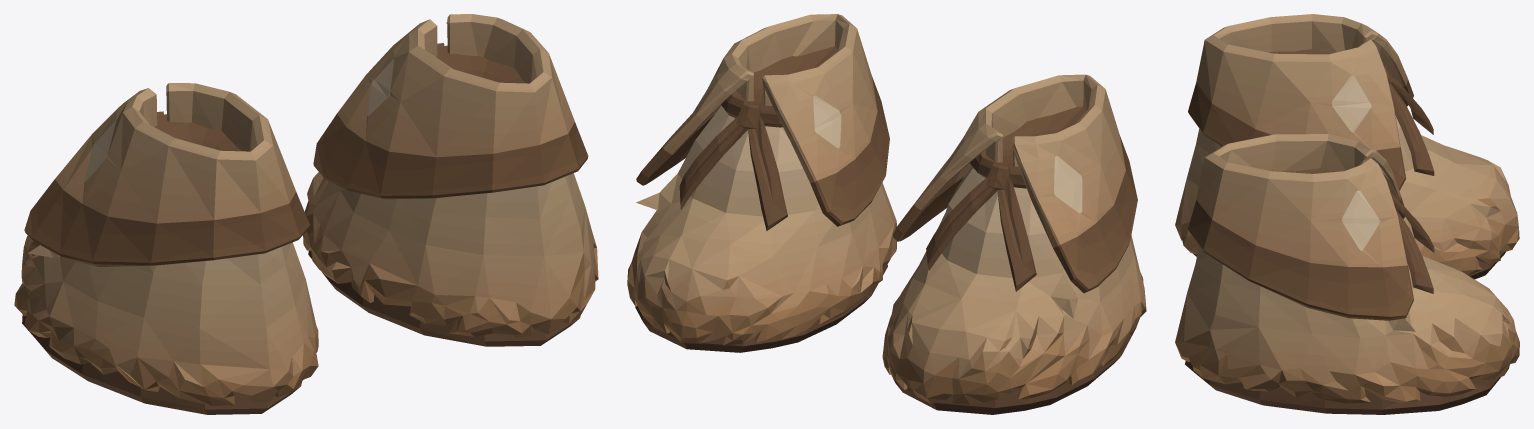
Rendered from CharSkyKid_Feet_FluffyMoth.glb.
3 views of the same model, side by side, from view 1: azimuth 30°, elevation 25°; view 2: azimuth 150°, elevation 25°; view 3: azimuth 270°, elevation 25° (orthographic). The views are drawn at different scales.
Visible parts, largest first — view 1: CharSkyKid_Feet_FluffyMoth; view 2: CharSkyKid_Feet_FluffyMoth; view 3: CharSkyKid_Feet_FluffyMoth.
Boxes of the visible parts, box(x1,y1,x2,y2) form: CharSkyKid_Feet_FluffyMoth: box(14, 14, 598, 414); CharSkyKid_Feet_FluffyMoth: box(627, 14, 1146, 414); CharSkyKid_Feet_FluffyMoth: box(1175, 14, 1519, 414).
Size of the model in its own units: 3.32 by 1.56 by 2.22.
1 material, 1 textured.
